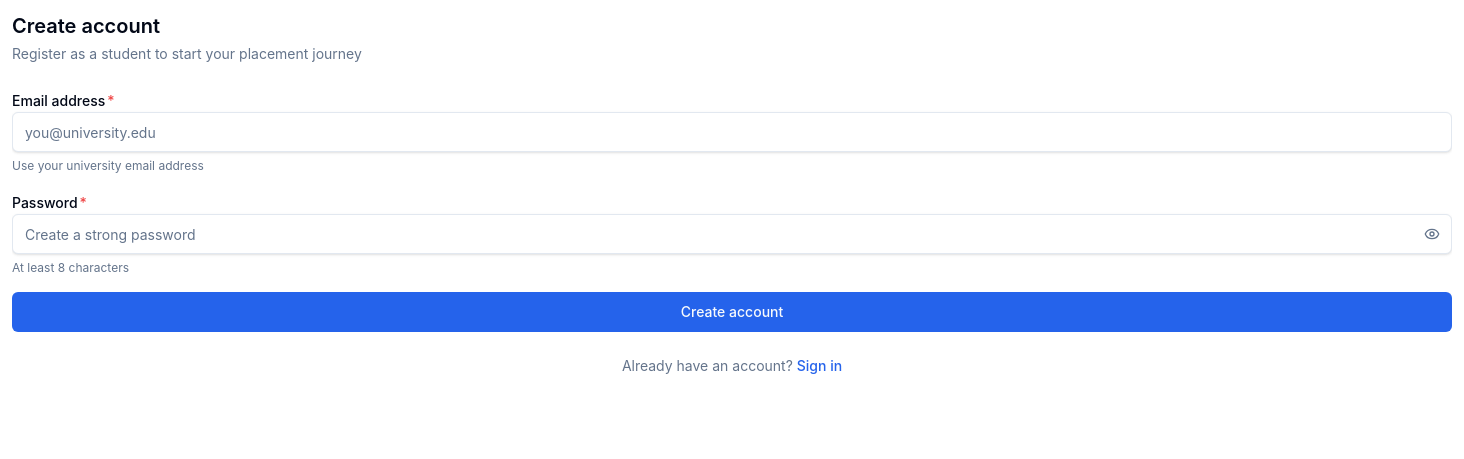
it: RegisterPage › does not auto-authenticate: registration returns a message (no tokens) and lands on login
The width and height of the screenshot is (1464, 459).
Type "newstudent@university.edu" into the field labelled "Email address*" at (732, 132), box [12,112,1452,152]
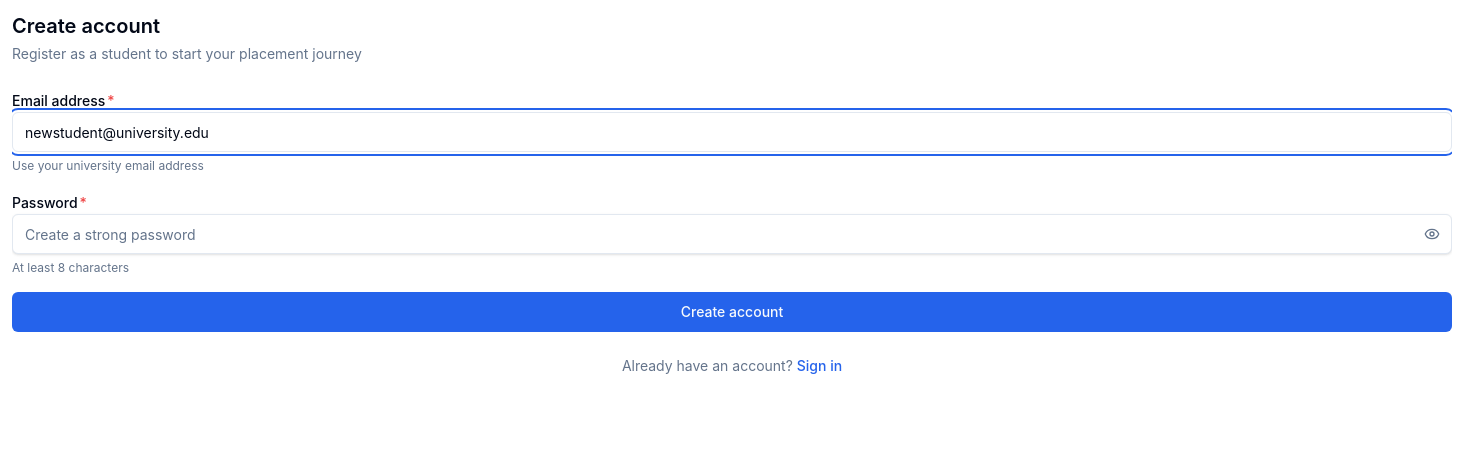
Type "secret123" into the password field labelled "Password*" at (732, 234), box [12,214,1452,254]
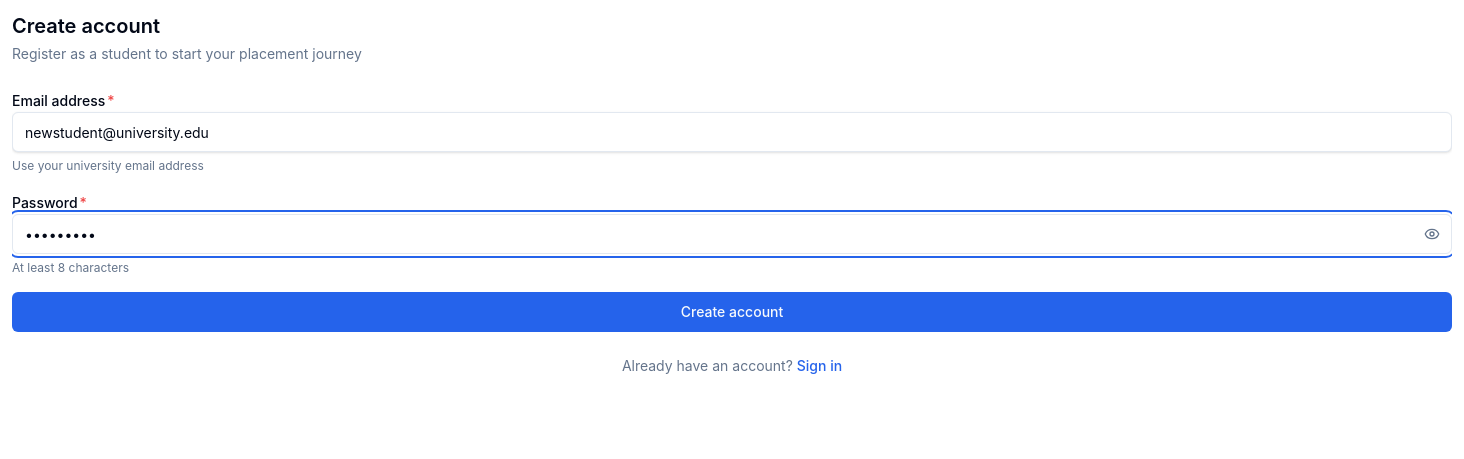
Click the button "Create account" at (732, 312), box [12,292,1452,332]
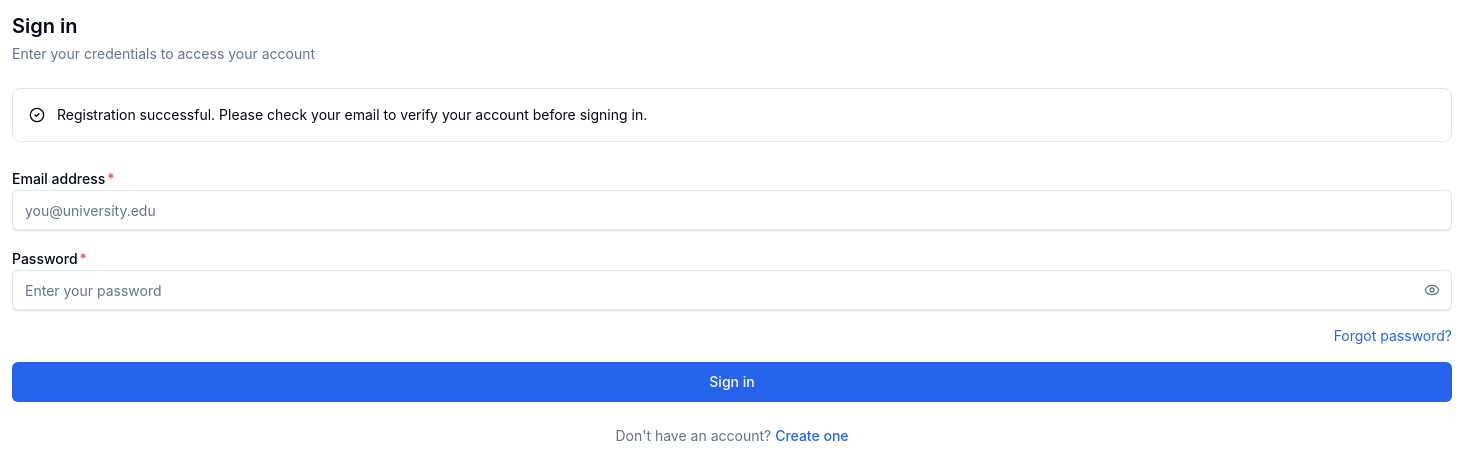
Check: the heading "Sign in" is shown, box [12,14,78,38]
Check: the text "Registration successful. Please check your email to verify your account before signing in." is shown, box [57,106,647,123]
